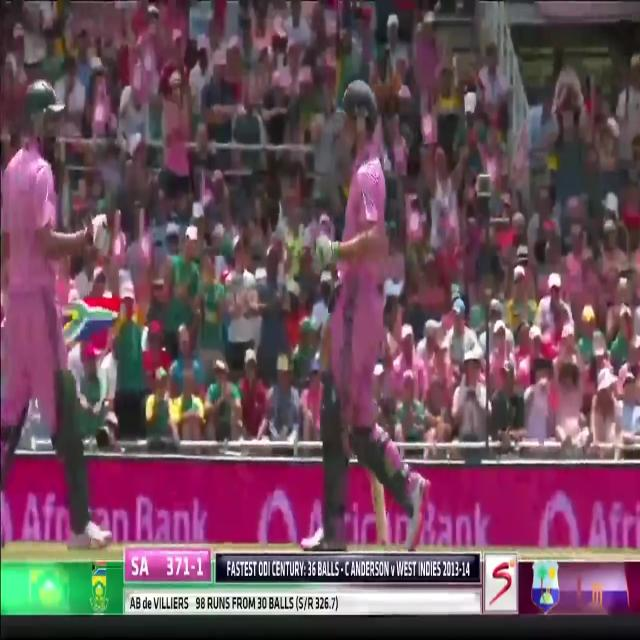Ball: (289, 71, 425, 555), (0, 78, 76, 564)
